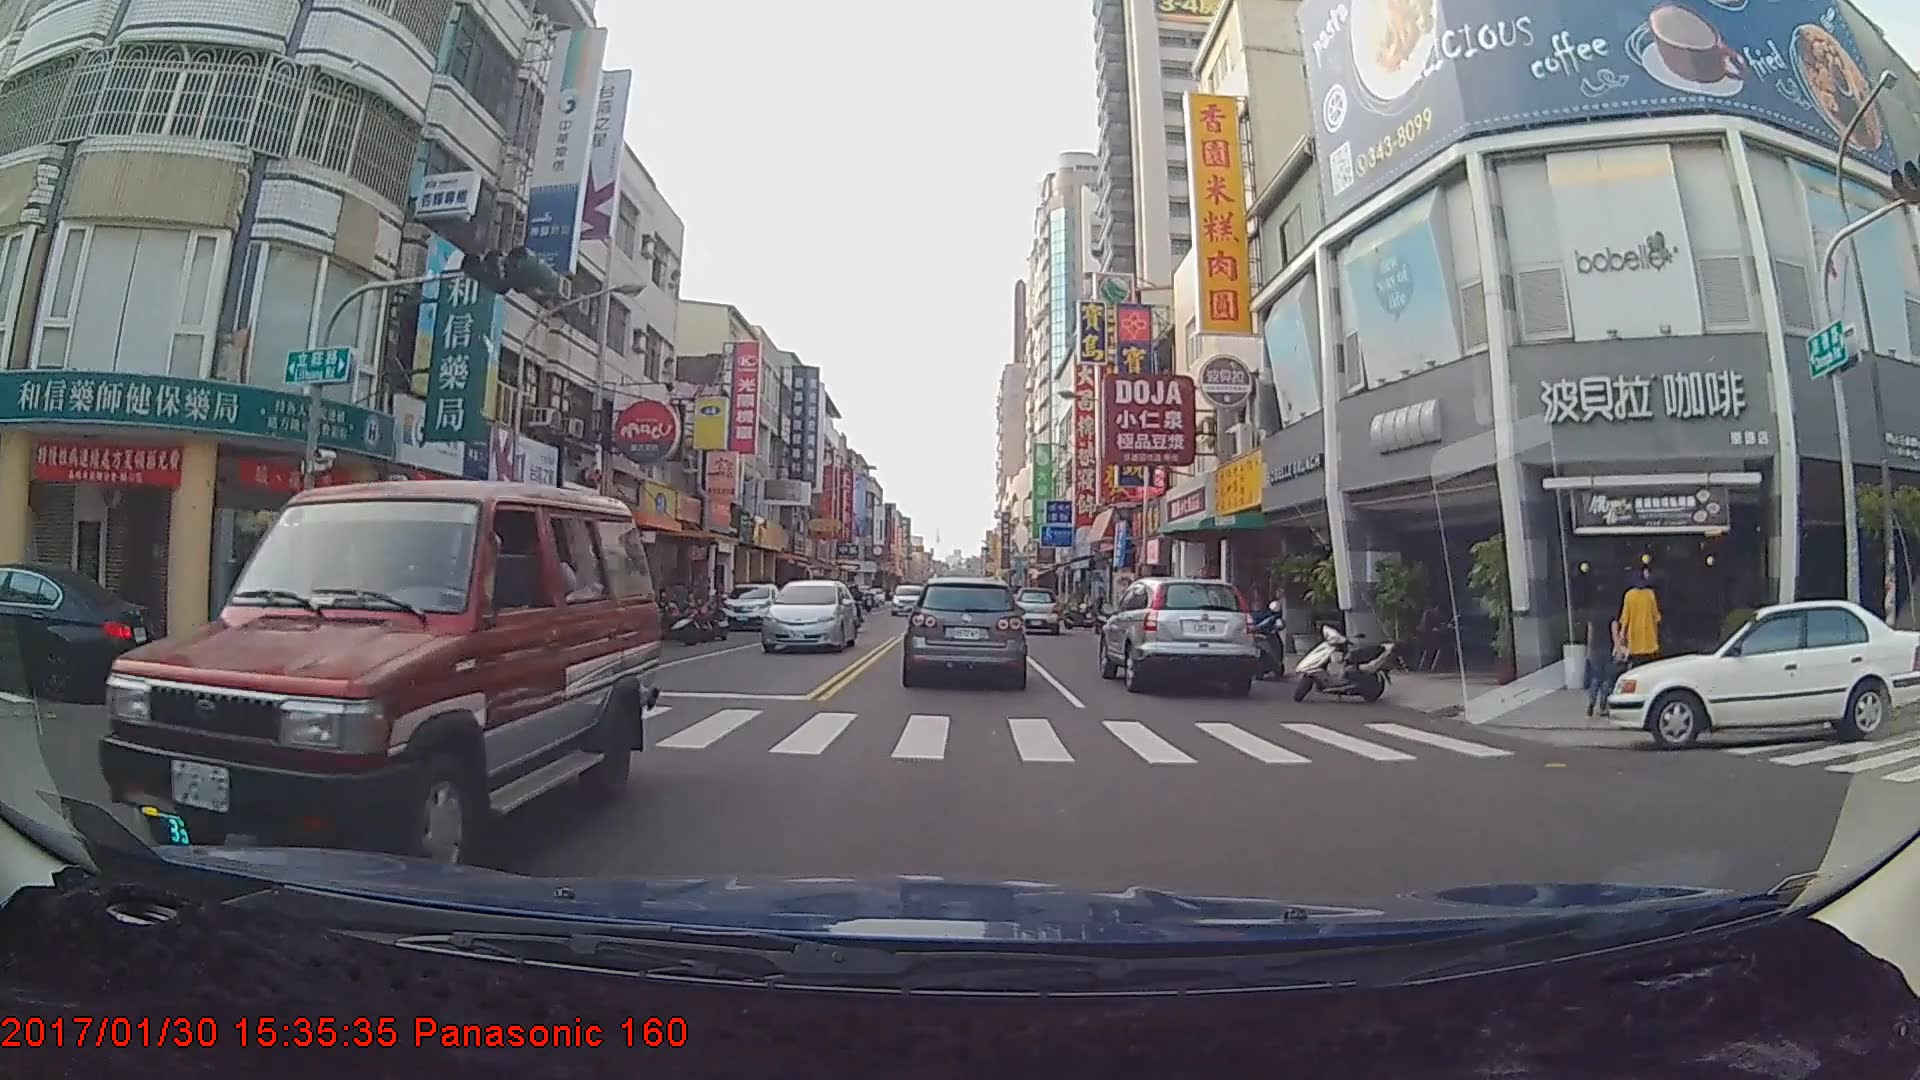pedestrian: (1580, 583, 1628, 722), (1619, 568, 1666, 690)
vehicle: (79, 476, 663, 892), (1605, 596, 1919, 751), (0, 559, 155, 699), (1099, 572, 1258, 693), (903, 576, 1025, 684), (758, 578, 859, 653), (720, 580, 780, 629), (1010, 586, 1060, 634), (890, 582, 926, 614)
